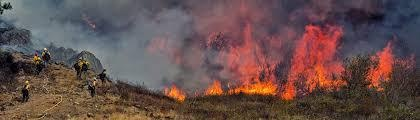fire: (205, 15, 349, 99), (363, 39, 411, 91), (161, 82, 187, 100), (81, 13, 96, 28), (31, 50, 42, 62)
